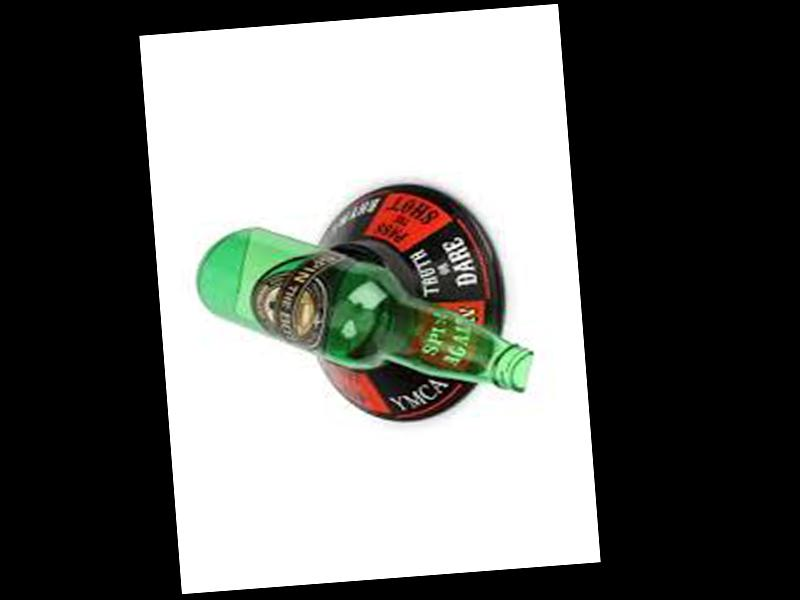Beer: (193, 204, 536, 414)
